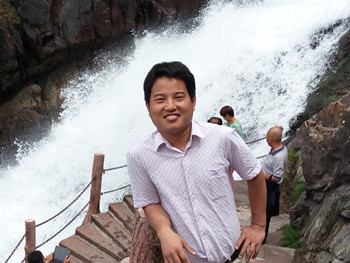noWear: (149, 89, 194, 137), (265, 128, 281, 147), (221, 108, 234, 121)
